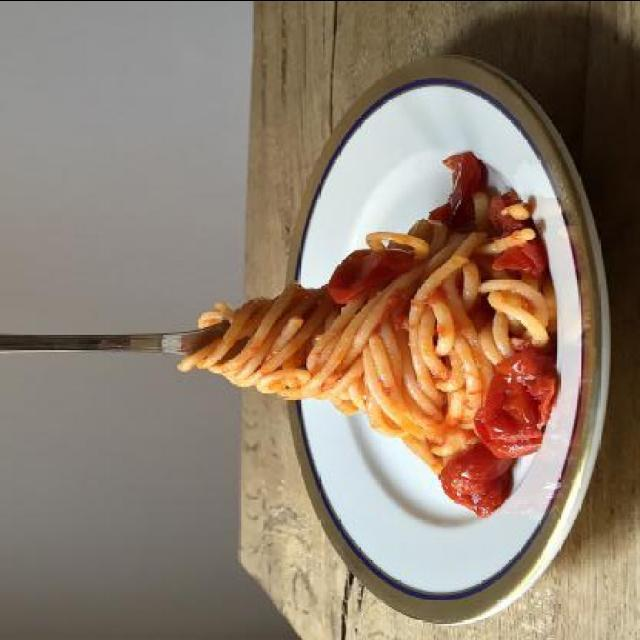Oil pasta: (110, 63, 587, 529)
